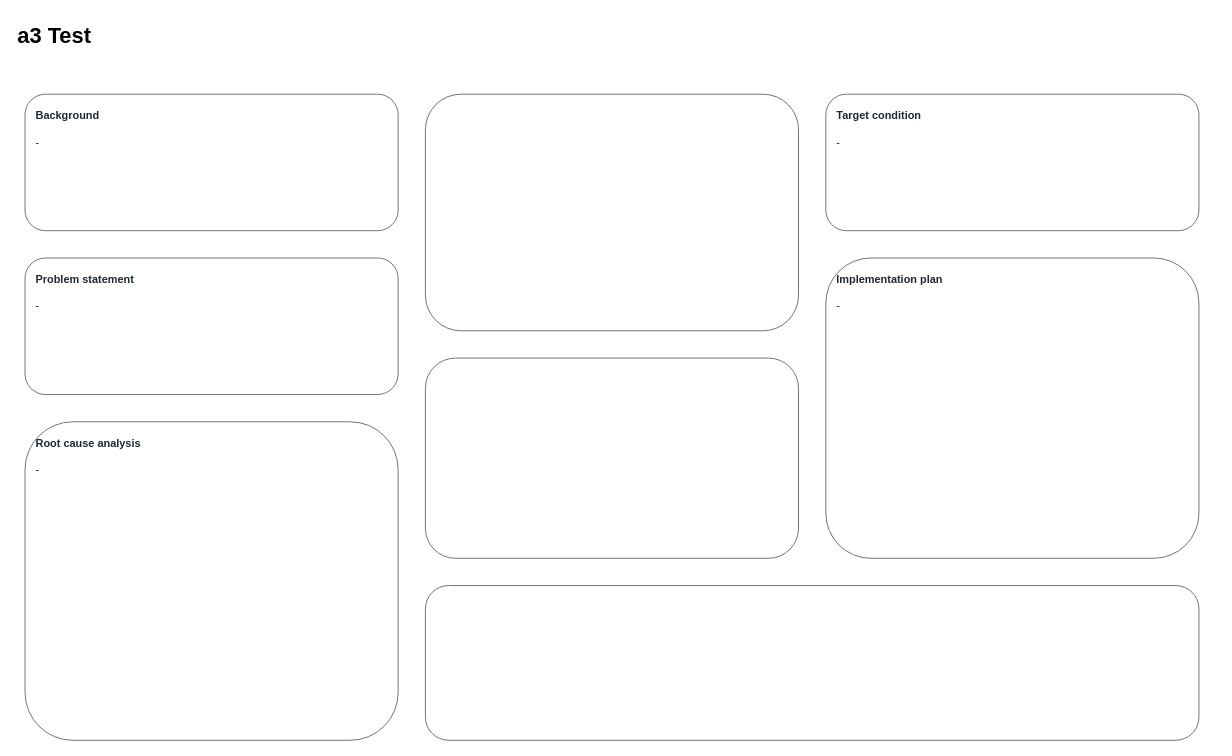
The diagram is 1232 pixels wide and 756 high, and some of its shapes have lost their labels. The centre of each missing label's shape, as x and y in pixels:
Countermeasures -: pixel 612 457
Current state -: pixel 612 212
Results / follow-up -: pixel 812 662
